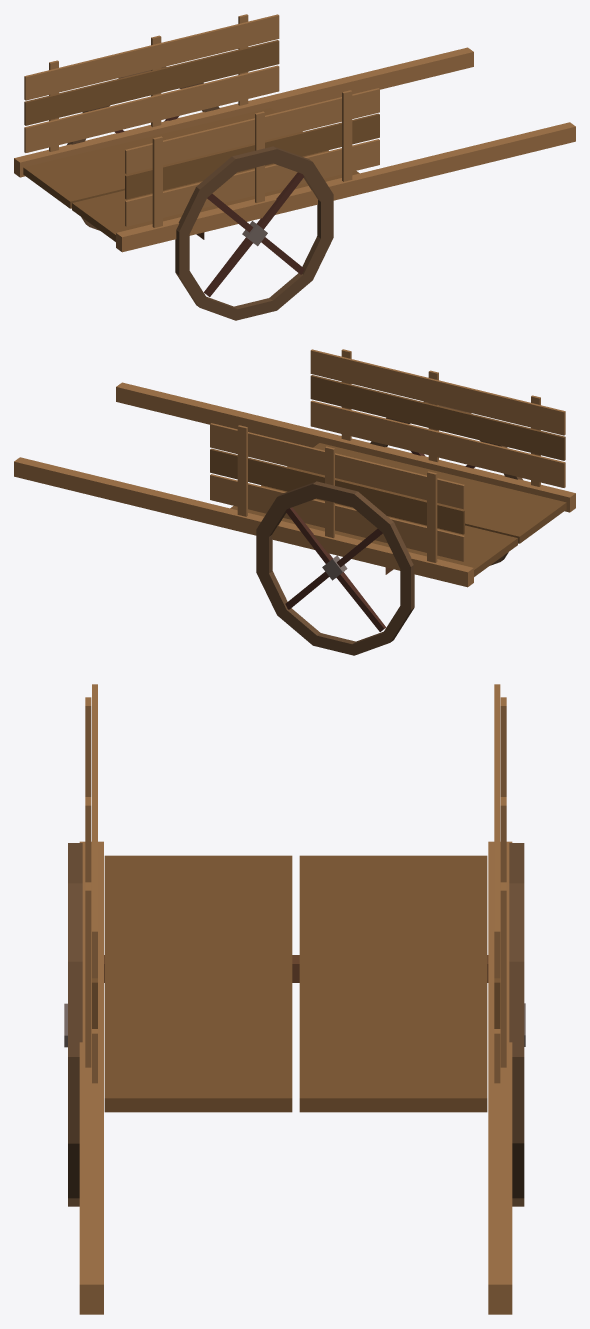
Rendered from WesternCart.glb.
3 views of the same model, one above another, from view 1: azimuth 30°, elevation 25°; view 2: azimuth 150°, elevation 25°; view 3: azimuth 270°, elevation 25° (orthographic). The views are drawn at different scales.
Parts seen in each view (by area): view 1: WesternCart2; view 2: WesternCart2; view 3: WesternCart2.
Boxes of the visible parts, <box> form: WesternCart2: <box>14,14,575,320</box>; WesternCart2: <box>14,349,575,655</box>; WesternCart2: <box>64,684,525,1314</box>.
Size of the model in its own units: 4.4 by 1.82 by 1.94.
2 materials, 2 textured.
